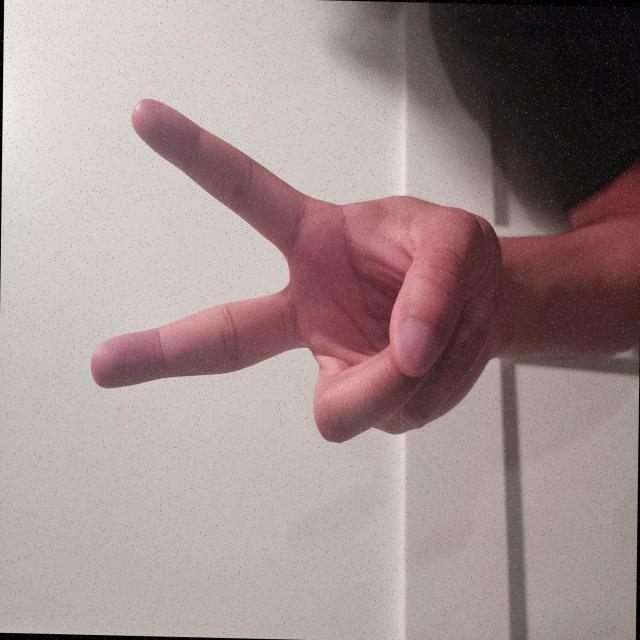V: (71, 59, 431, 640)
